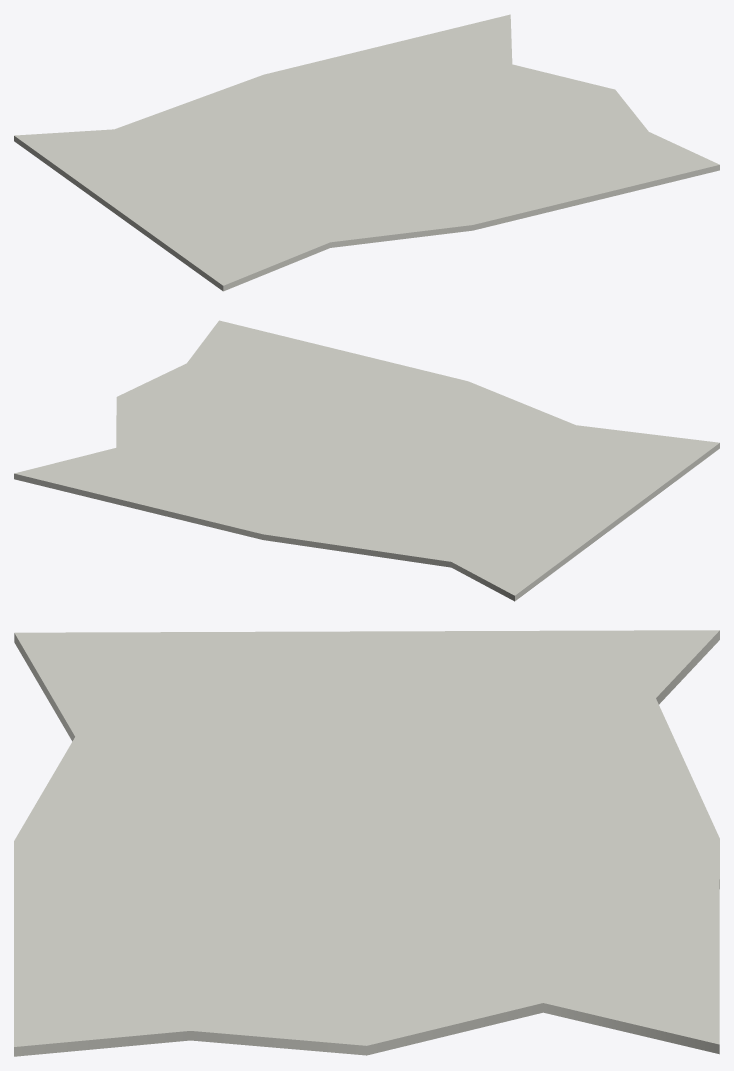
Rendered from Letter2.fbx.
3 renders of one model, top to bottom at view 1: azimuth 30°, elevation 25°; view 2: azimuth 150°, elevation 25°; view 3: azimuth 270°, elevation 25°, orthographic. The views are drawn at different scales.
Parts seen in each view (by area): view 1: TearedUpLetter_02; view 2: TearedUpLetter_02; view 3: TearedUpLetter_02.
Boxes of the visible parts, box(x1,y1,x2,y2) form: TearedUpLetter_02: box(14, 14, 719, 291); TearedUpLetter_02: box(14, 320, 719, 601); TearedUpLetter_02: box(14, 630, 719, 1056).
Size of the model in its own units: 30.36 by 0.3292 by 21.73.
